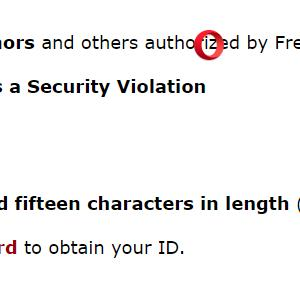opera: (194, 29, 224, 60)
